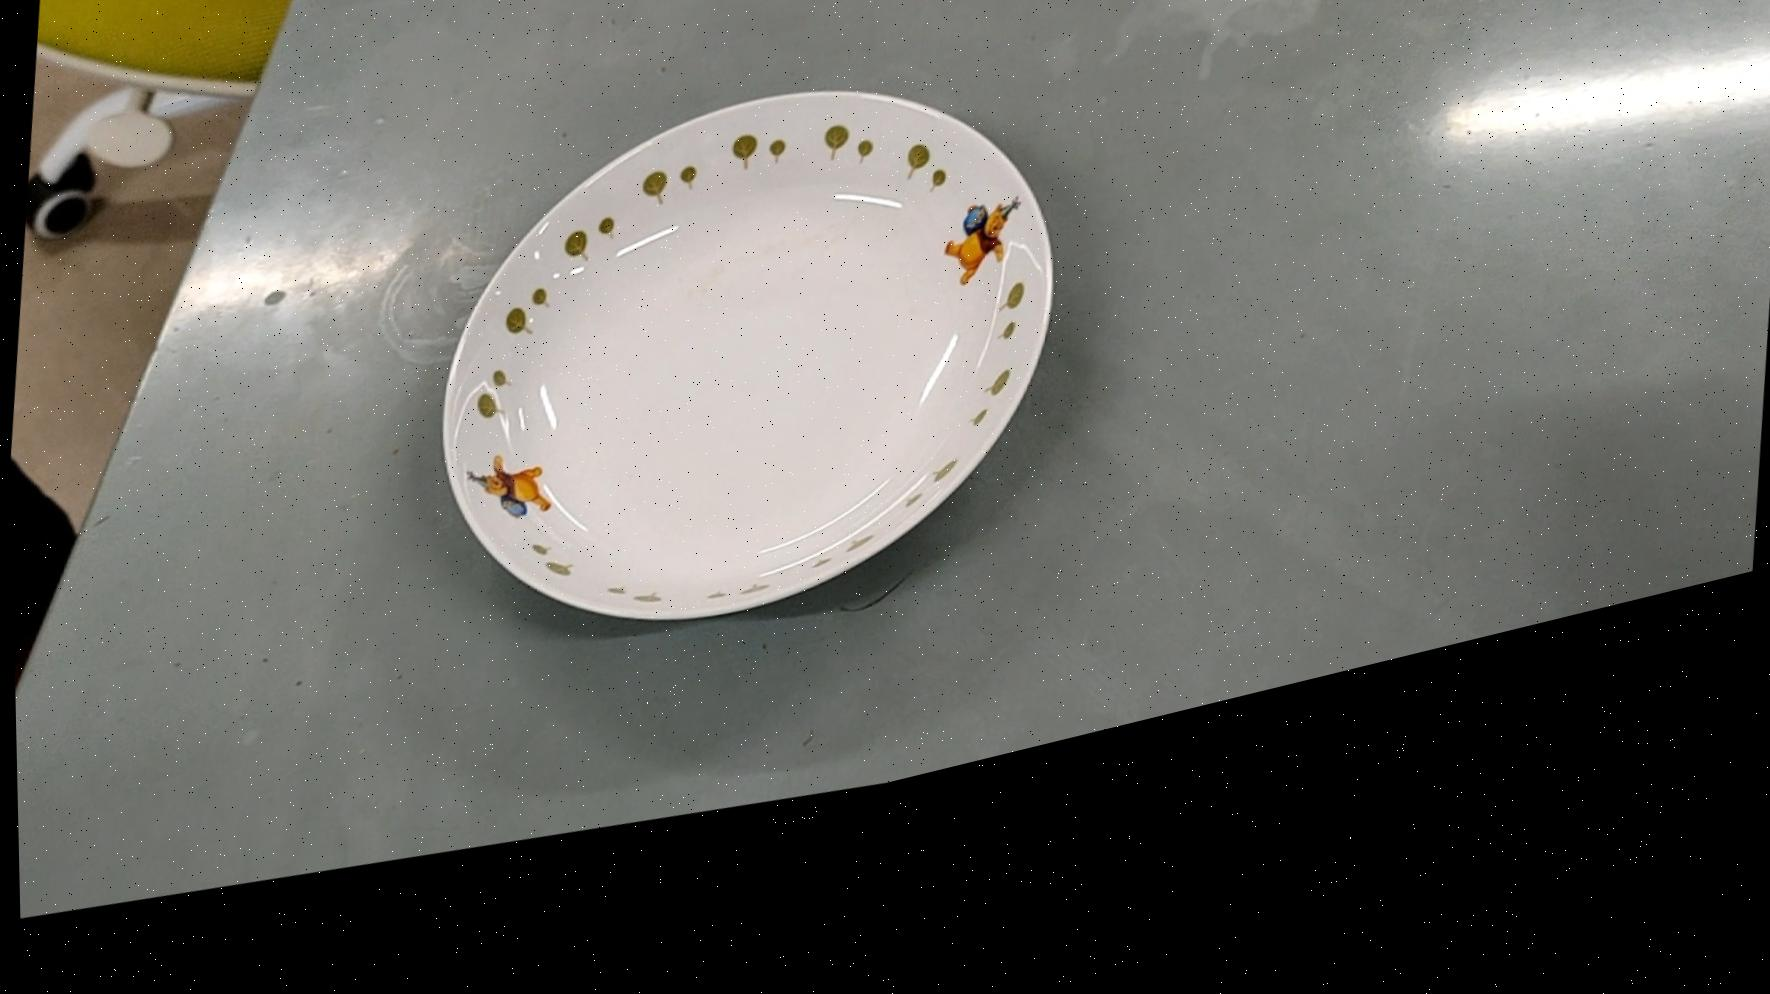plate: (417, 50, 1069, 734)
